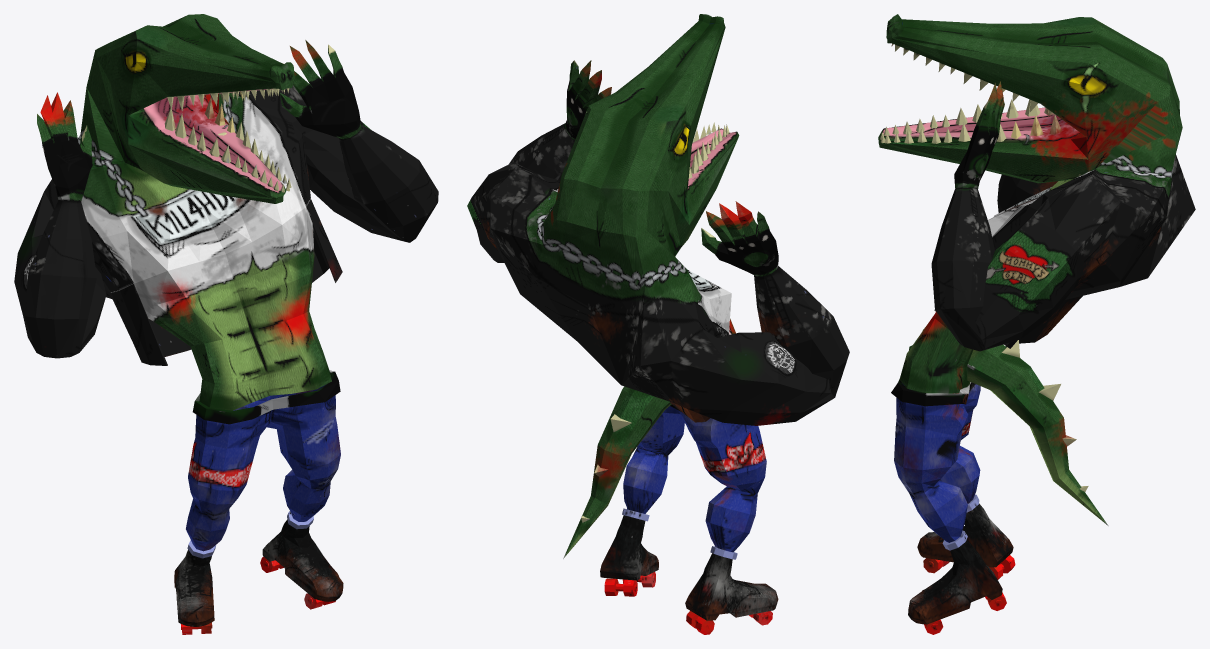
The model's file is cocodrilaBonesSelect_000011.obj.
3 views of the same model, side by side, from view 1: azimuth 30°, elevation 25°; view 2: azimuth 150°, elevation 25°; view 3: azimuth 270°, elevation 25° (orthographic). The views are drawn at different scales.
Visible parts, largest first — view 1: Crocodile.002_Cylinder.002; view 2: Crocodile.002_Cylinder.002; view 3: Crocodile.002_Cylinder.002.
Boxes of the visible parts, x1,y1,x2,y2 form: Crocodile.002_Cylinder.002: (14,14,438,634); Crocodile.002_Cylinder.002: (467,14,849,634); Crocodile.002_Cylinder.002: (878,14,1195,634).
Size of the model in its own units: 4.62 by 6.6 by 3.26.
